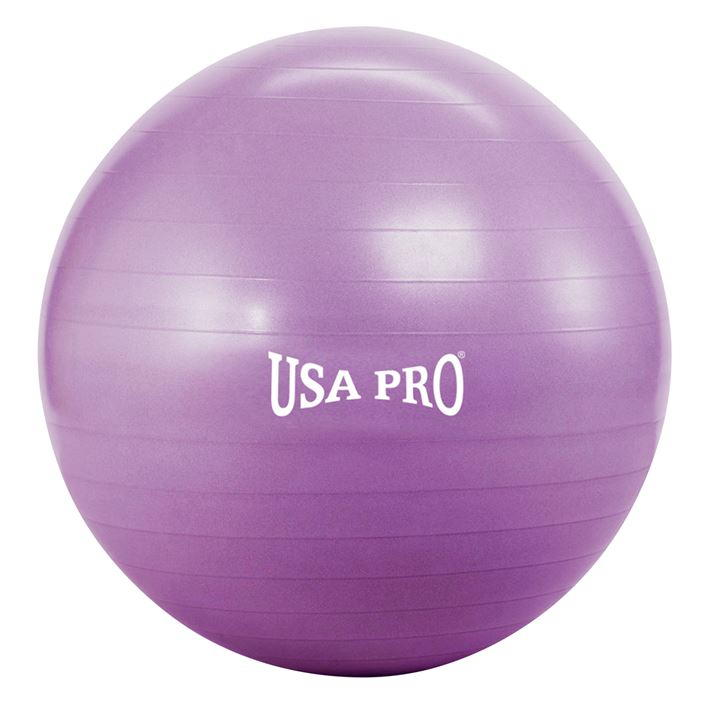yogaball: (26, 20, 682, 691)
